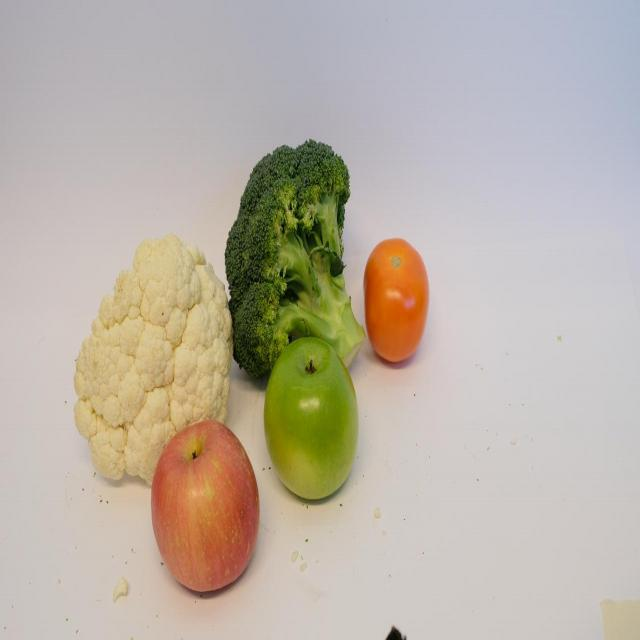apple: (148, 422, 255, 602), (262, 339, 366, 504)
broccoli: (226, 123, 365, 375)
cauliflower: (66, 218, 228, 465)
tomato: (362, 233, 434, 370)
